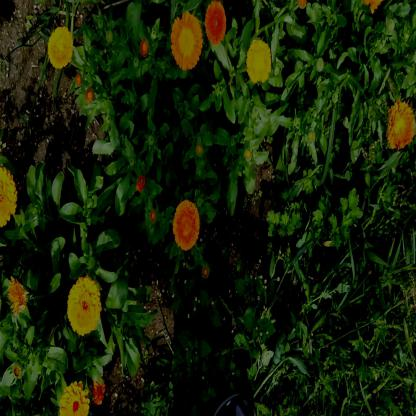marigold: (67, 276, 99, 335), (172, 15, 201, 71), (173, 201, 198, 250), (388, 100, 413, 148), (0, 164, 17, 230), (48, 25, 72, 70), (247, 40, 271, 84), (58, 382, 88, 413), (205, 2, 224, 40)
